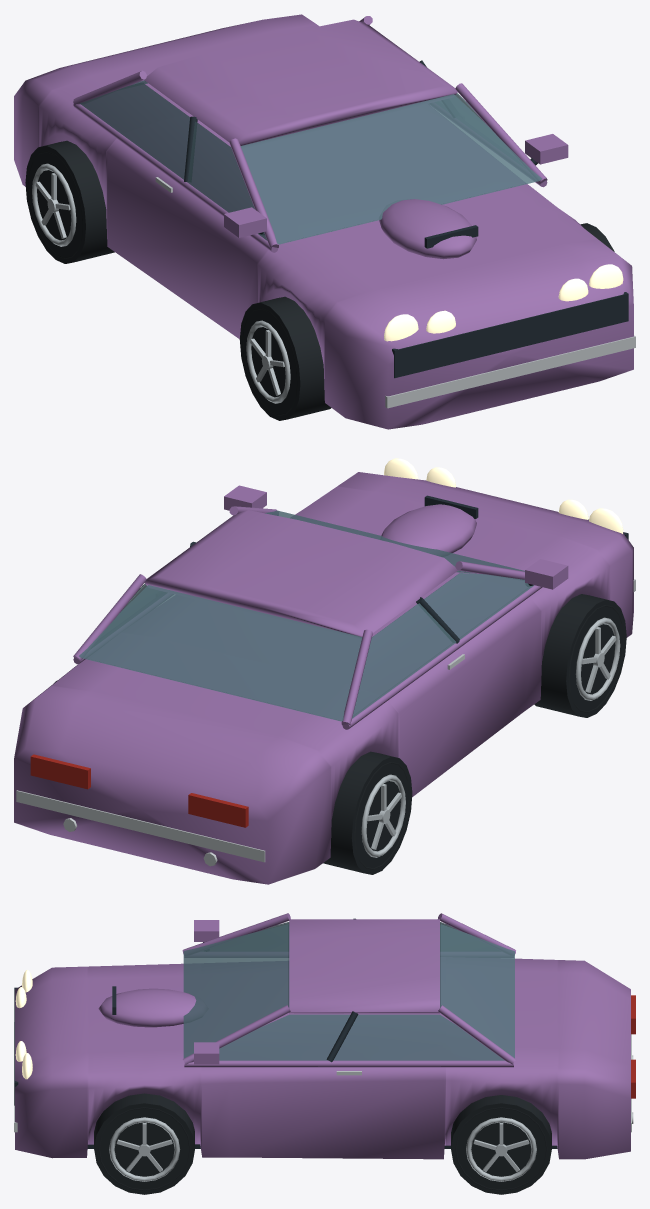
Rendered from challenger.glb.
3 views of the same model, one above another, from view 1: azimuth 30°, elevation 25°; view 2: azimuth 150°, elevation 25°; view 3: azimuth 270°, elevation 25° (orthographic). The views are drawn at different scales.
Visible parts, largest first — view 1: exterior-paint, windows, black-trim, tire-front-left, tire-rear-left, chrome, headlights, rim-front-left, rim-rear-left; view 2: exterior-paint, windows, tire-front-left, tire-rear-left, chrome, taillights, headlights, rim-rear-left, rim-front-left, black-trim; view 3: exterior-paint, windows, tire-front-right, tire-rear-right, rim-front-right, rim-rear-right, black-trim, headlights.
Part boxes in pixels (x1,y1,x2,y2): exterior-paint: (14,14,633,429); windows: (80,80,541,244); black-trim: (184,60,628,378); tire-front-left: (239,296,331,420); tire-rear-left: (25,140,114,263); chrome: (155,177,635,408); headlights: (384,264,623,341); rim-front-left: (246,320,290,403); rim-rear-left: (32,163,76,246); exterior-paint: (14,472,633,884); windows: (79,510,534,721); tire-front-left: (534,594,626,717); tire-rear-left: (323,751,412,874); chrome: (16,579,635,866); taillights: (30,754,248,827); headlights: (384,458,623,533); rim-rear-left: (361,774,405,857); rim-front-left: (575,617,620,700); black-trim: (190,495,628,643); exterior-paint: (15,913,630,1159); windows: (183,922,514,1060); tire-front-right: (94,1093,194,1194); tire-rear-right: (451,1095,551,1194); rim-front-right: (109,1117,180,1181); rim-rear-right: (466,1117,536,1181); black-trim: (14,918,557,1148); headlights: (15,970,32,1079).
Size of the model in its own units: 2.04 by 1.2 by 3.94.
